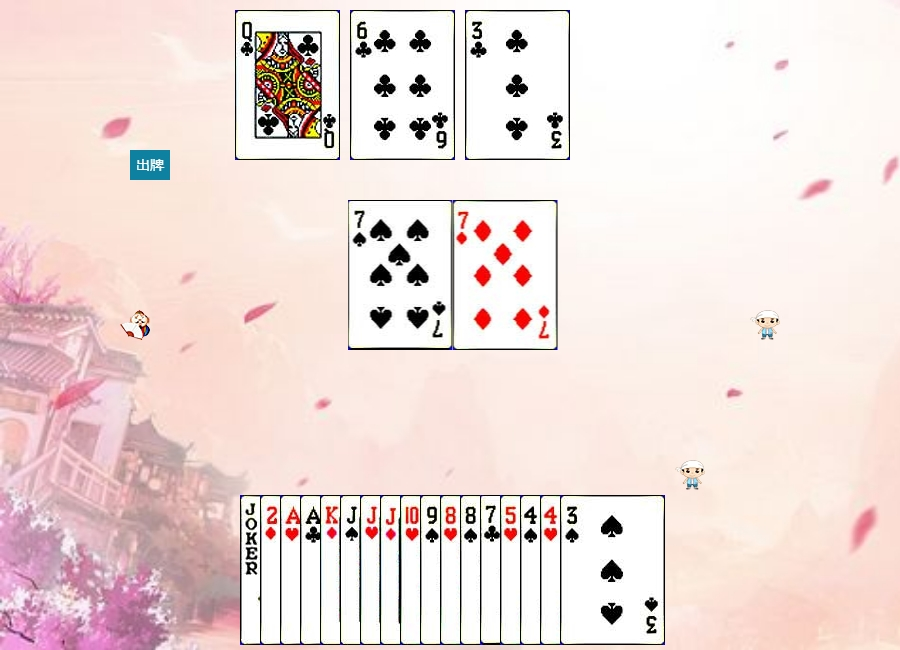10~3: (400, 495, 505, 645)
11~1: (380, 495, 485, 645)
11~3: (360, 495, 465, 645)
11~4: (340, 495, 445, 645)
12~2: (235, 10, 340, 160)
13~1: (320, 495, 425, 645)
14~2: (300, 495, 405, 645)
14~3: (280, 495, 385, 645)
15~1: (260, 495, 365, 645)
17~3: (240, 495, 345, 645)
3~2: (465, 10, 570, 160)
3~4: (560, 495, 665, 645)
4~3: (540, 495, 645, 645)
4~4: (520, 495, 625, 645)
5~3: (500, 495, 605, 645)
6~2: (350, 10, 455, 160)
7~1: (453, 200, 558, 350)
7~2: (480, 495, 585, 645)
7~4: (348, 200, 453, 350)
8~3: (440, 495, 545, 645)
8~4: (460, 495, 565, 645)
9~4: (420, 495, 525, 645)
